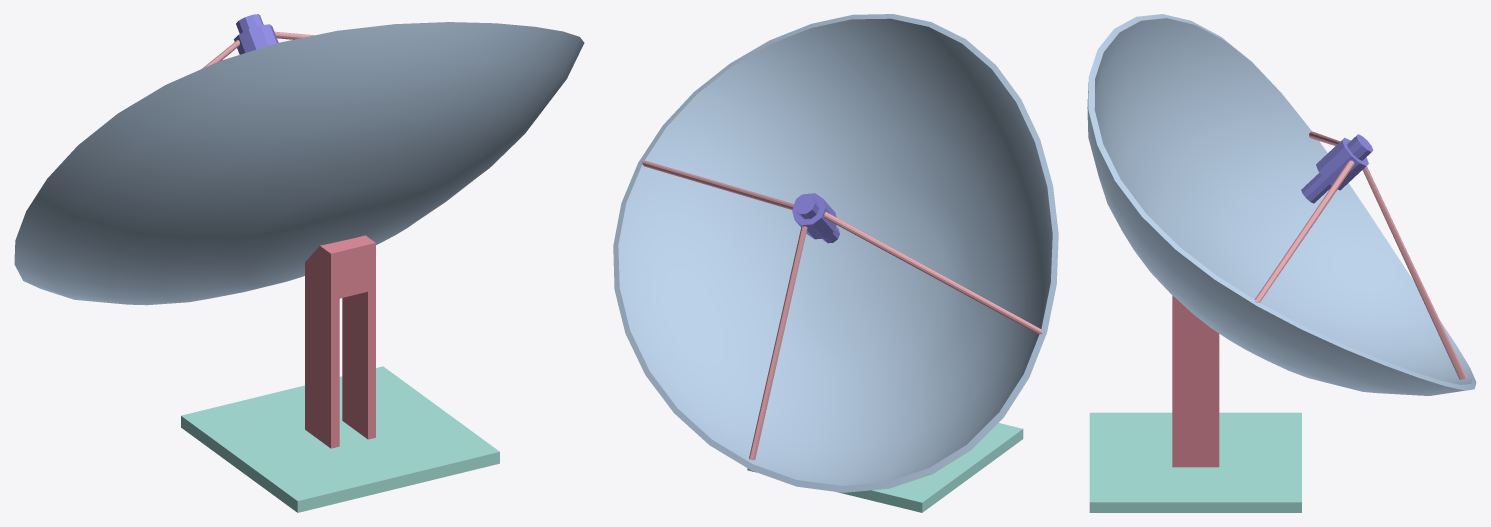
Rendered from Satelite.fbx.
The picture shows the model from 3 angles, left to right: view 1: azimuth 30°, elevation 25°; view 2: azimuth 150°, elevation 25°; view 3: azimuth 270°, elevation 25°; orthographic projection. The views are drawn at different scales.
Visible parts, largest first — view 1: Satelite, Bottom, Cube.030, LMB; view 2: Satelite, Rig, Bottom, LMB; view 3: Satelite, Bottom, Cube.030, Rig, LMB.
Boxes of the visible parts, <box> form: Satelite: <box>14,22,584,305</box>; Bottom: <box>181,366,499,512</box>; Cube.030: <box>305,235,375,448</box>; LMB: <box>234,14,278,54</box>; Satelite: <box>613,14,1058,492</box>; Rig: <box>641,160,1042,460</box>; Bottom: <box>747,423,1023,512</box>; LMB: <box>792,193,839,243</box>; Satelite: <box>1087,14,1476,395</box>; Bottom: <box>1089,412,1301,512</box>; Cube.030: <box>1172,295,1219,467</box>; Rig: <box>1254,131,1467,379</box>; LMB: <box>1301,134,1373,203</box>.
Bounding box in the file's own units: 248 × 217 × 183.
